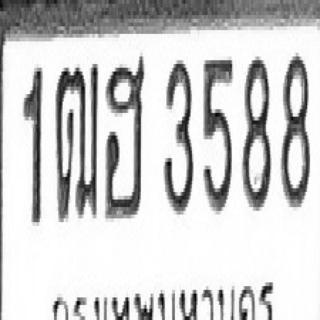A18: (54, 60, 98, 222)
A44: (103, 55, 144, 220)
N01: (22, 64, 42, 226)
N03: (162, 56, 193, 215)
N05: (202, 55, 233, 213)
N08: (280, 53, 310, 207), (242, 55, 270, 209)
